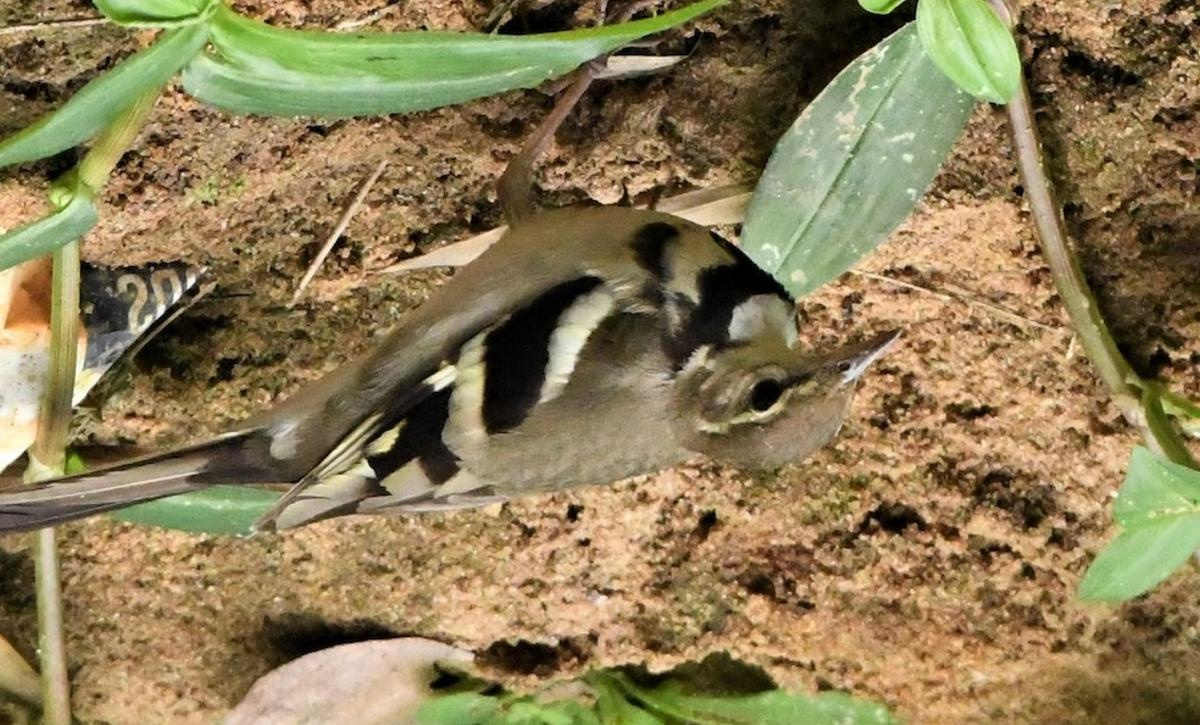wagtail: (315, 148, 925, 554)
